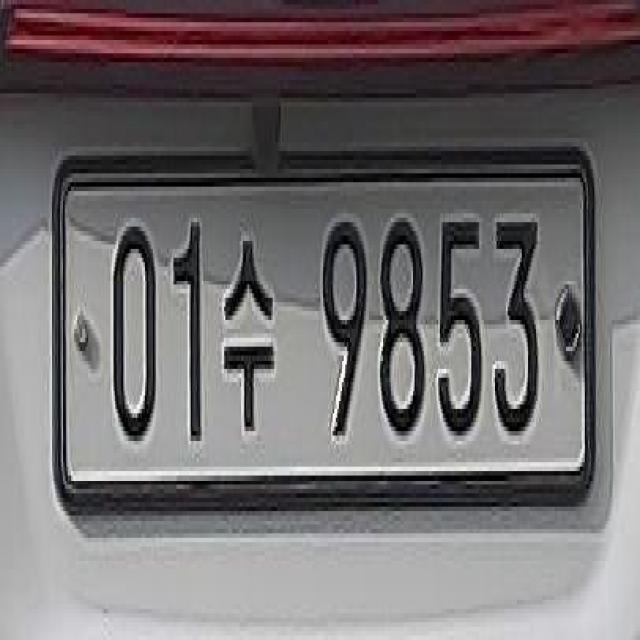illegal_plate: (47, 136, 607, 538)
